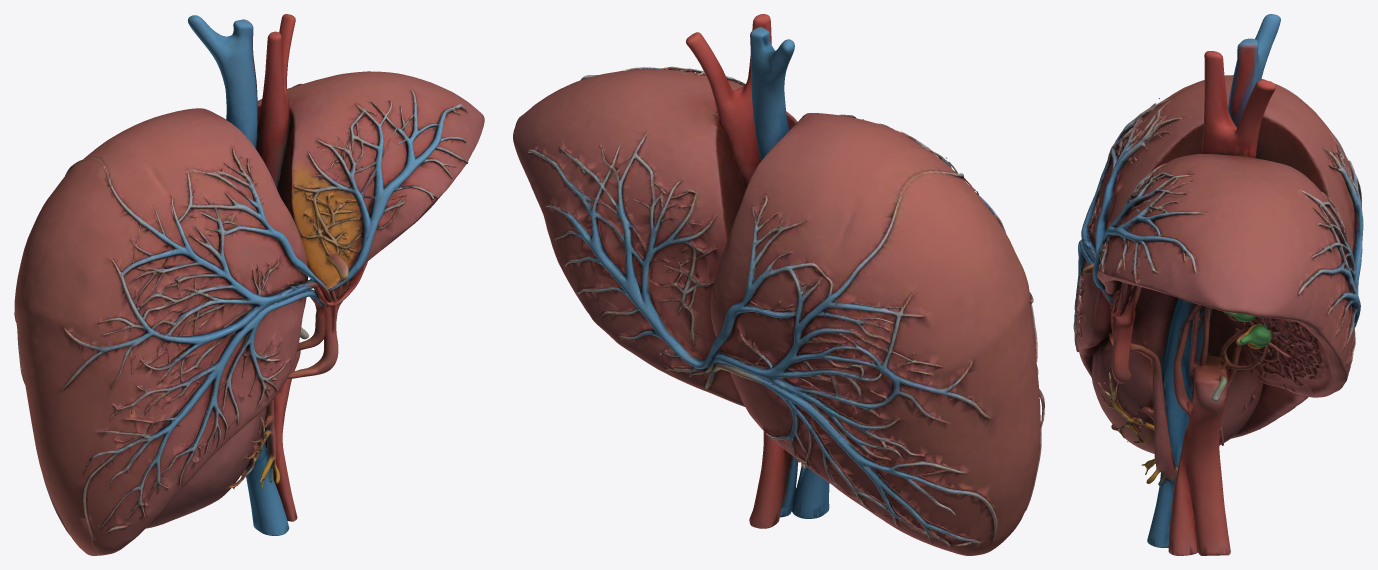
File: liver.glb
3 renders of one model, left to right at view 1: azimuth 30°, elevation 25°; view 2: azimuth 150°, elevation 25°; view 3: azimuth 270°, elevation 25°, orthographic. The views are drawn at different scales.
Parts seen in each view (by area): view 1: tripo_node_1c7e641c-603f-41bd-b81d-f90f99063845; view 2: tripo_node_1c7e641c-603f-41bd-b81d-f90f99063845; view 3: tripo_node_1c7e641c-603f-41bd-b81d-f90f99063845.
Boxes of the visible parts, <box> form: tripo_node_1c7e641c-603f-41bd-b81d-f90f99063845: <box>14,14,484,555</box>; tripo_node_1c7e641c-603f-41bd-b81d-f90f99063845: <box>513,14,1044,555</box>; tripo_node_1c7e641c-603f-41bd-b81d-f90f99063845: <box>1073,14,1363,555</box>.
Bounding box in the file's own units: 0.9932 × 0.9999 × 0.5123.
Materials: 1 (1 with a texture image).
